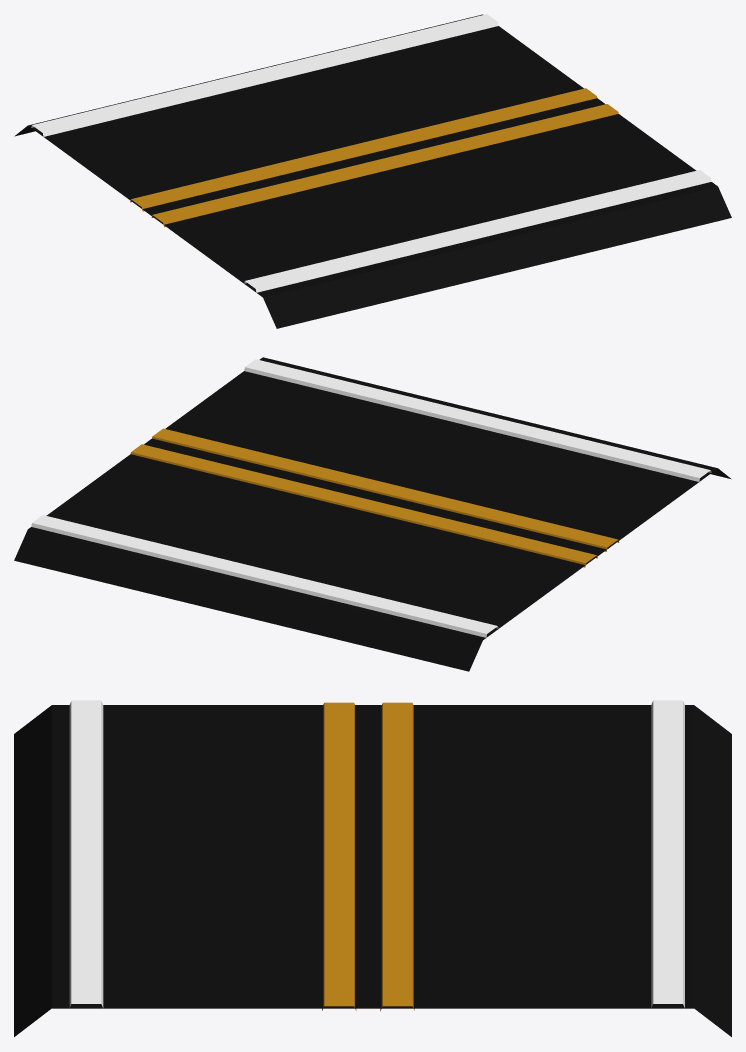
File: road_textfbx.fbx
3 views of the same model, one above another, from view 1: azimuth 30°, elevation 25°; view 2: azimuth 150°, elevation 25°; view 3: azimuth 270°, elevation 25° (orthographic). The views are drawn at different scales.
Visible parts, largest first — view 1: Plane001; view 2: Plane001; view 3: Plane001.
Part boxes in pixels (left/top/right/bottom): Plane001: left=14, top=14, right=731, bottom=328; Plane001: left=14, top=357, right=731, bottom=671; Plane001: left=14, top=700, right=731, bottom=1036.
Bounding box in the file's own units: 100 × 5.16 × 100.
